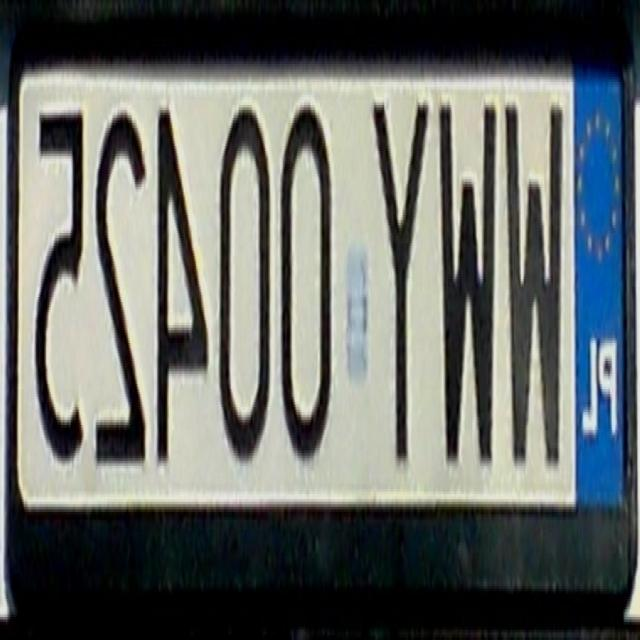pl_license_plate: (19, 66, 622, 502)
